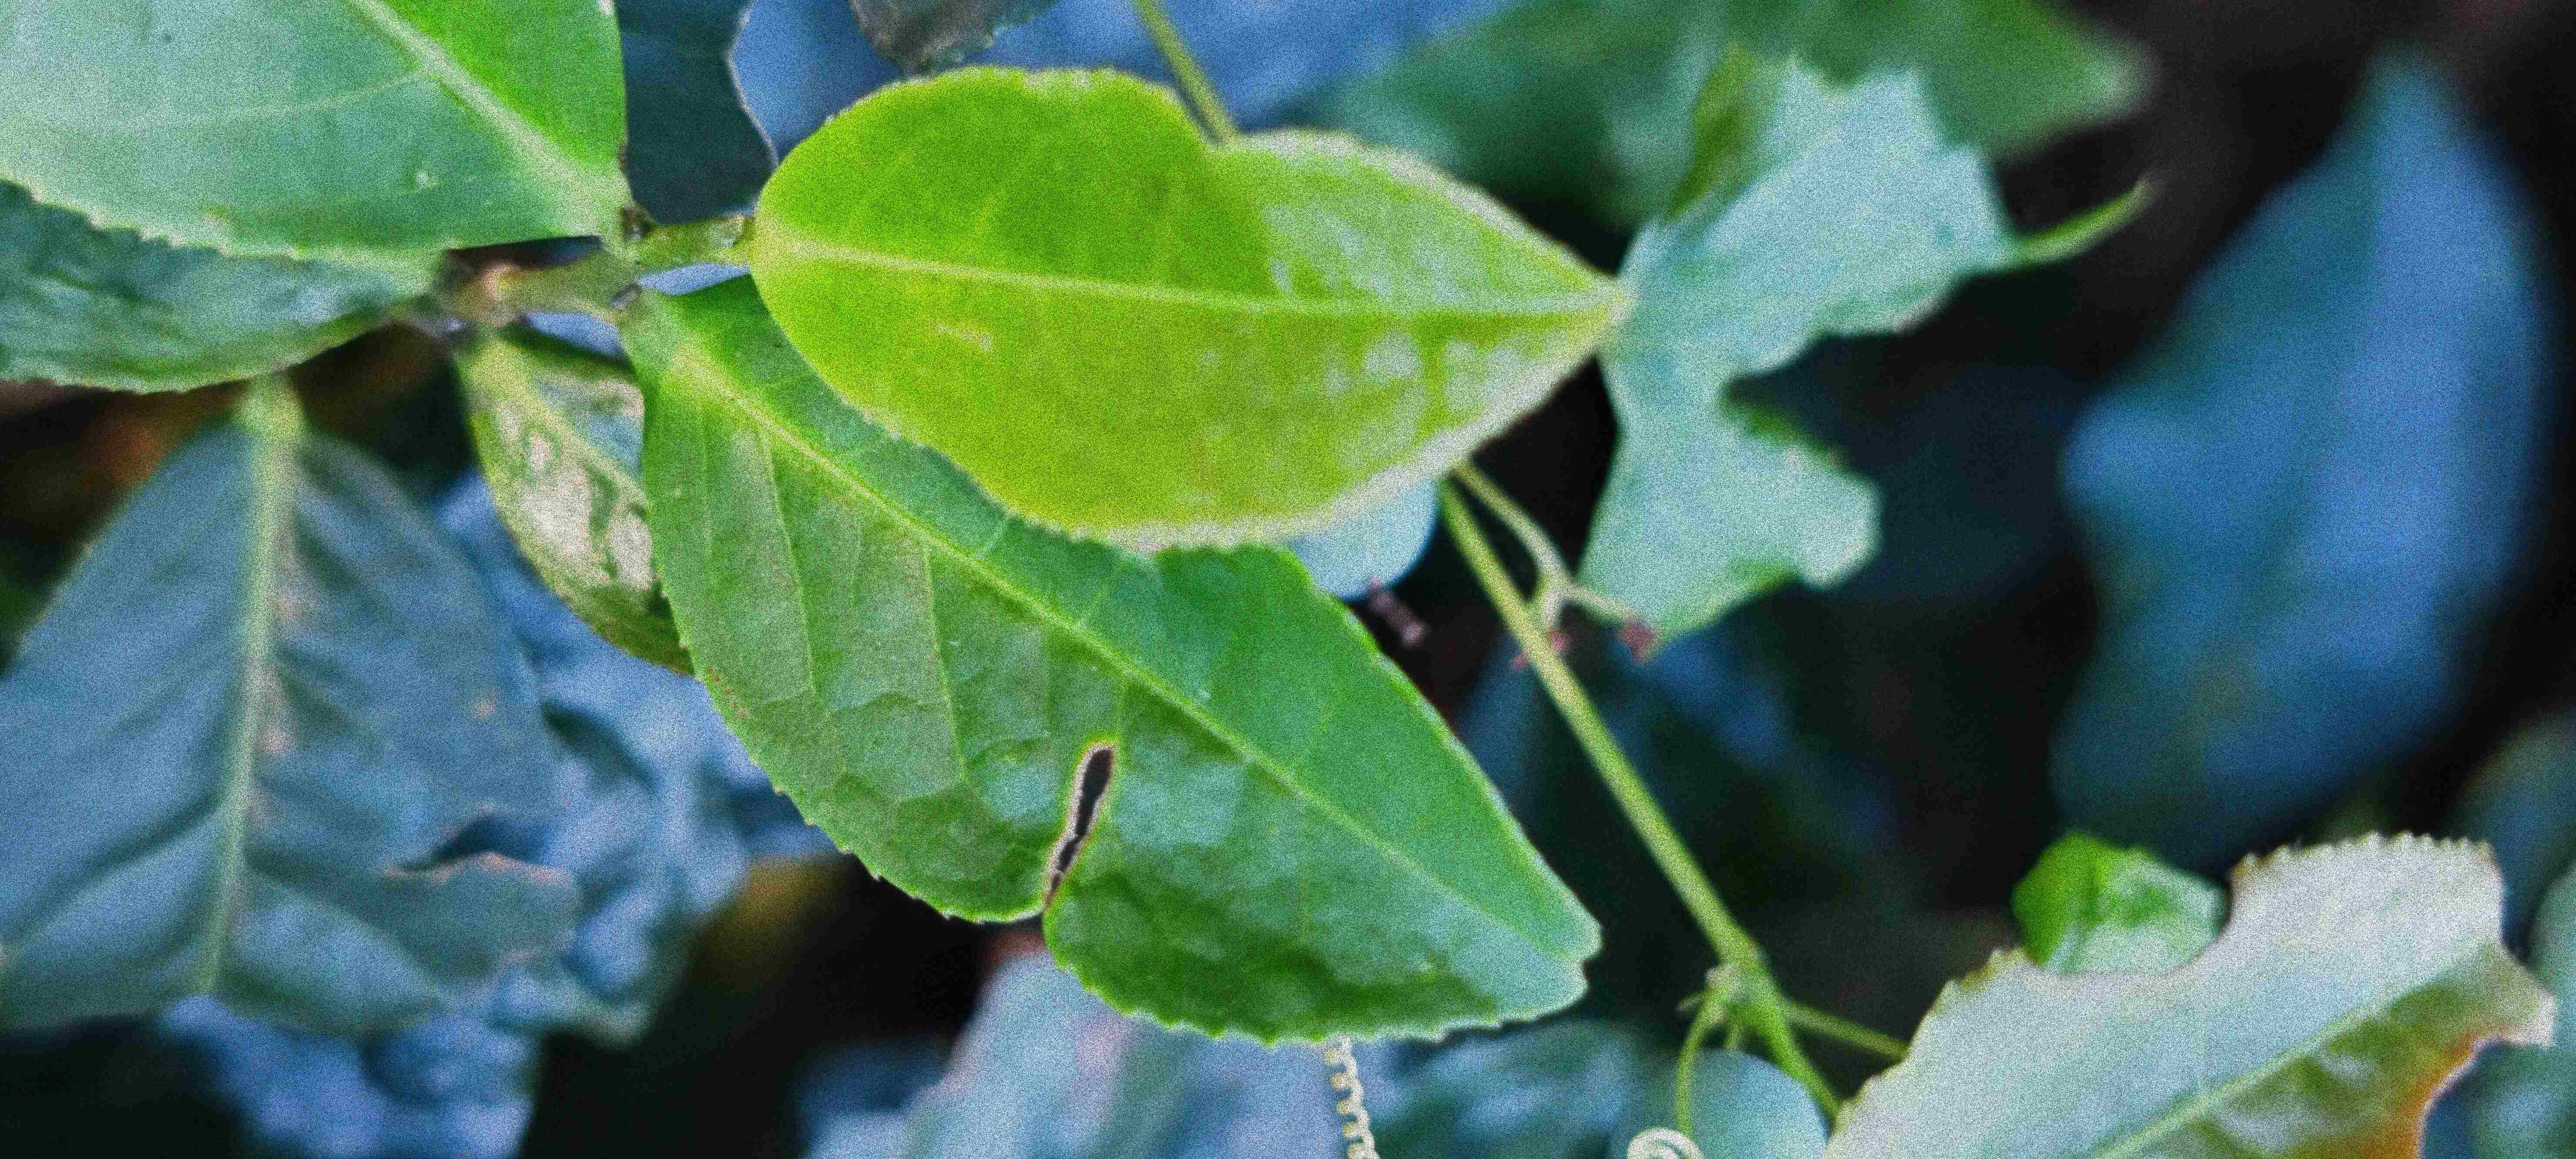chihuo_high: (8, 419, 588, 1052), (1825, 824, 2556, 1156)
chihuo_low: (629, 281, 1612, 1051)
healthy: (743, 67, 1635, 553), (2, 7, 632, 261)
